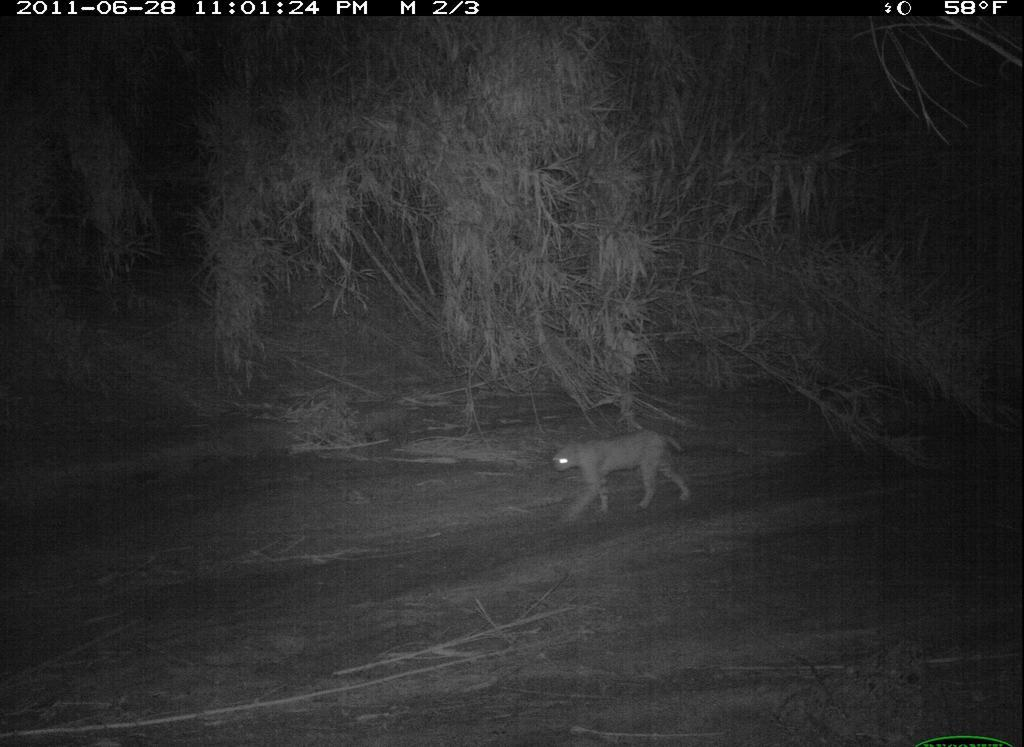bobcat: (547, 427, 697, 527)
